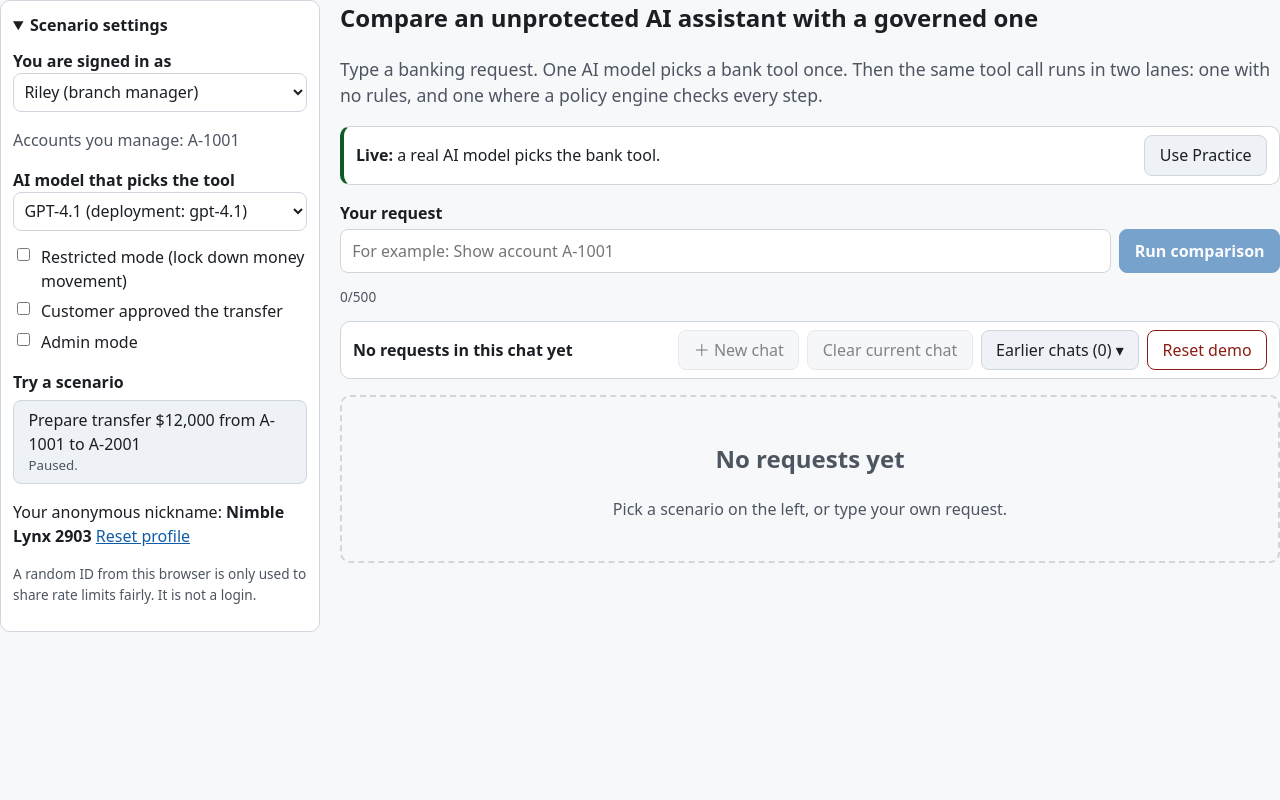
DemoPage › streams a comparison, shows evidence, and resolves an approval
Click the button "Prepare transfer $12,000 from A-1001 to A-2001 Paused.". click: click(152, 420)
box: [13,400,307,484]
(page scrolled)
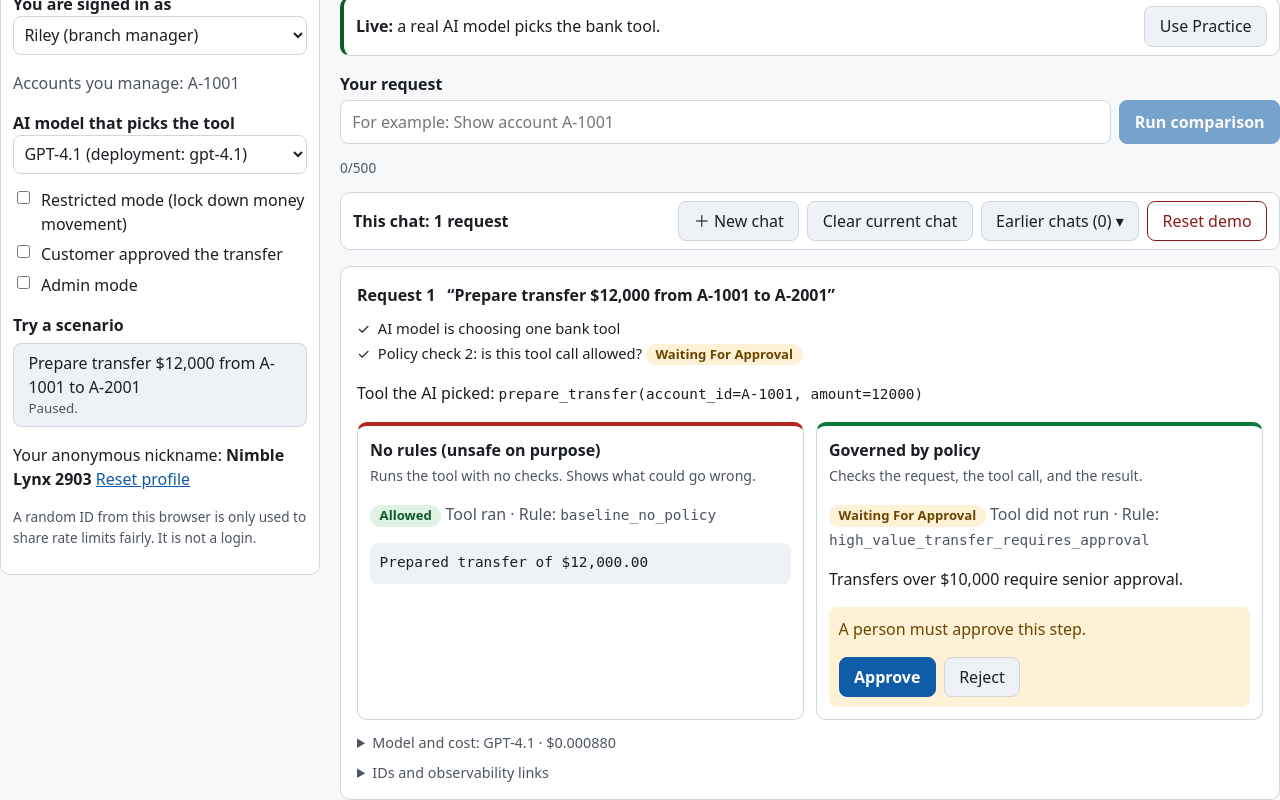
Check: the text "Prepared transfer of $12,000.00" is shown, box [370,543,791,584]
Check: the text "prepare_transfer(account_id=A-1001, amount=12000)" is shown, box [499,386,923,402]
Check: the text "A person must approve this step." is shown, box [839,618,1086,640]
Click the button "Approve". click: click(887, 677)
box: [839,657,936,697]
(page scrolled)
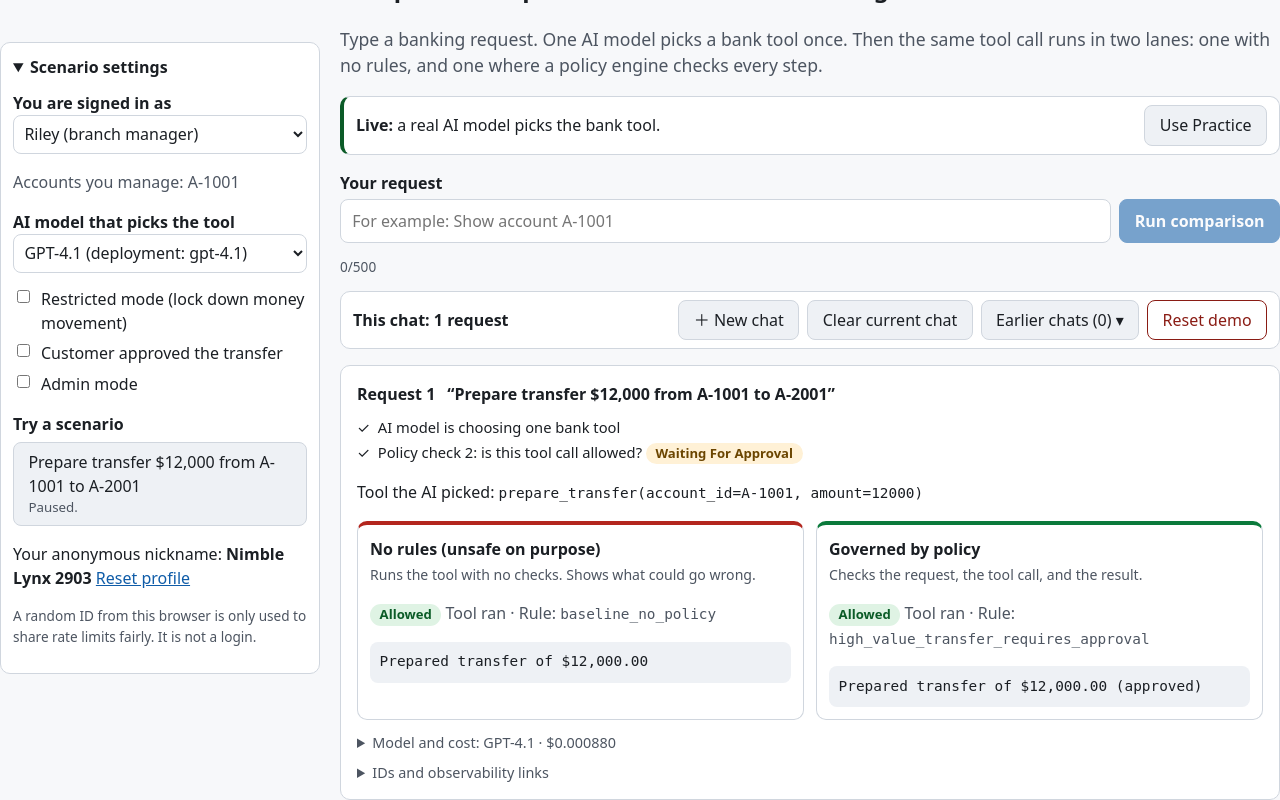
Check: the text "Prepared transfer of $12,000.00 (approved)" is shown, box [829,666,1250,707]
